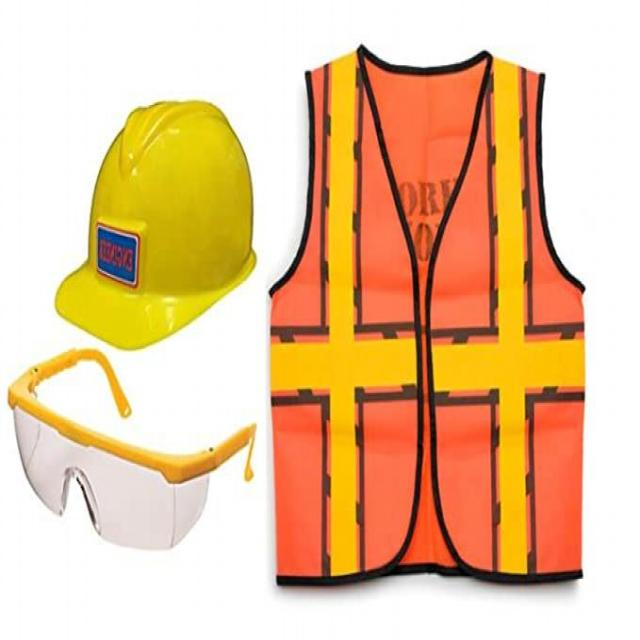Reflective-Jacket: (249, 30, 604, 597)
Safety-Helmet: (53, 88, 265, 345)
